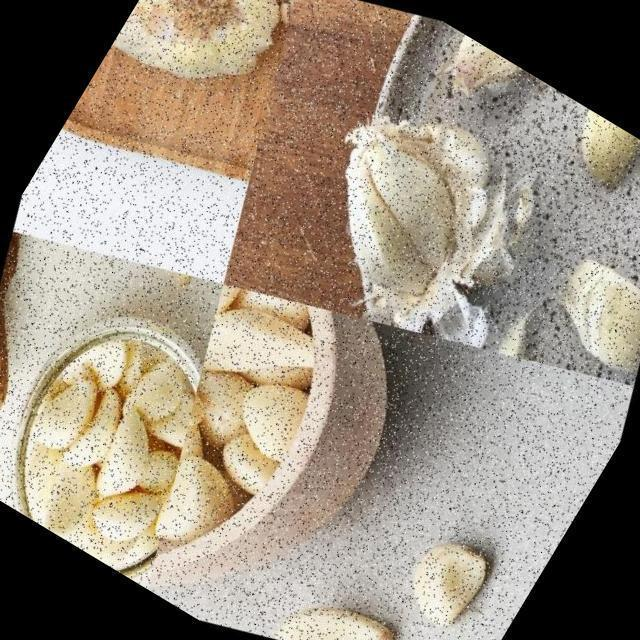garlic: (81, 256, 406, 620), (267, 65, 552, 359), (0, 279, 264, 587), (97, 0, 323, 152), (522, 225, 640, 397), (379, 513, 516, 640), (423, 28, 550, 140), (257, 560, 412, 640), (538, 99, 640, 210), (480, 280, 580, 380)
